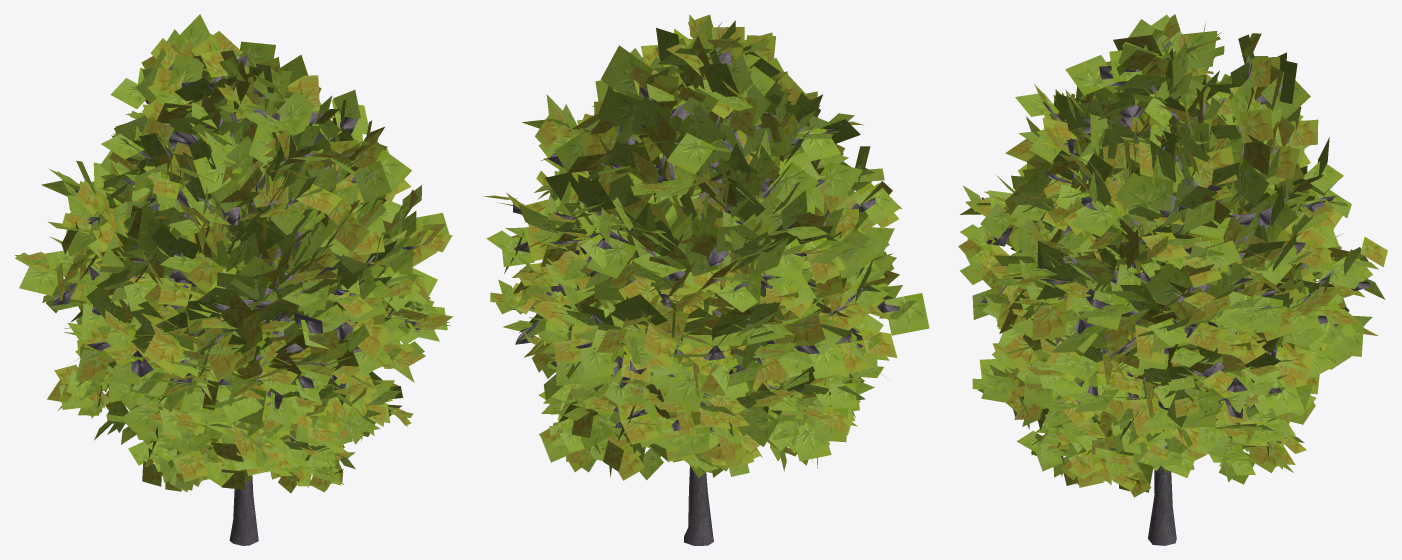
The model's file is tree-japanese-maple.glb.
3 views of the same model, side by side, from view 1: azimuth 30°, elevation 25°; view 2: azimuth 150°, elevation 25°; view 3: azimuth 270°, elevation 25° (orthographic). The views are drawn at different scales.
Visible parts, largest first — view 1: tree-japanese-maple; view 2: tree-japanese-maple; view 3: tree-japanese-maple.
Boxes of the visible parts, x1,y1,x2,y2 form: tree-japanese-maple: (14, 14, 452, 545); tree-japanese-maple: (482, 14, 929, 545); tree-japanese-maple: (958, 14, 1387, 545).
Bounding box in the file's own units: 3.64 × 4.6 × 3.52.
4 materials, 4 textured.
